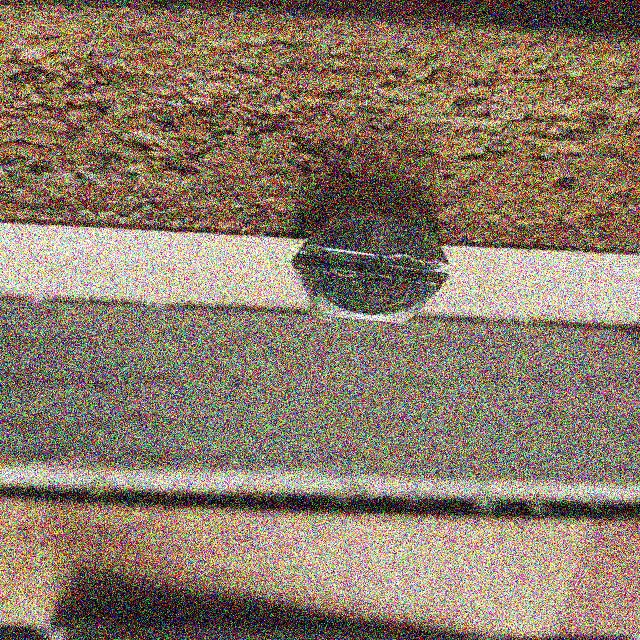duz: (292, 206, 452, 326)
